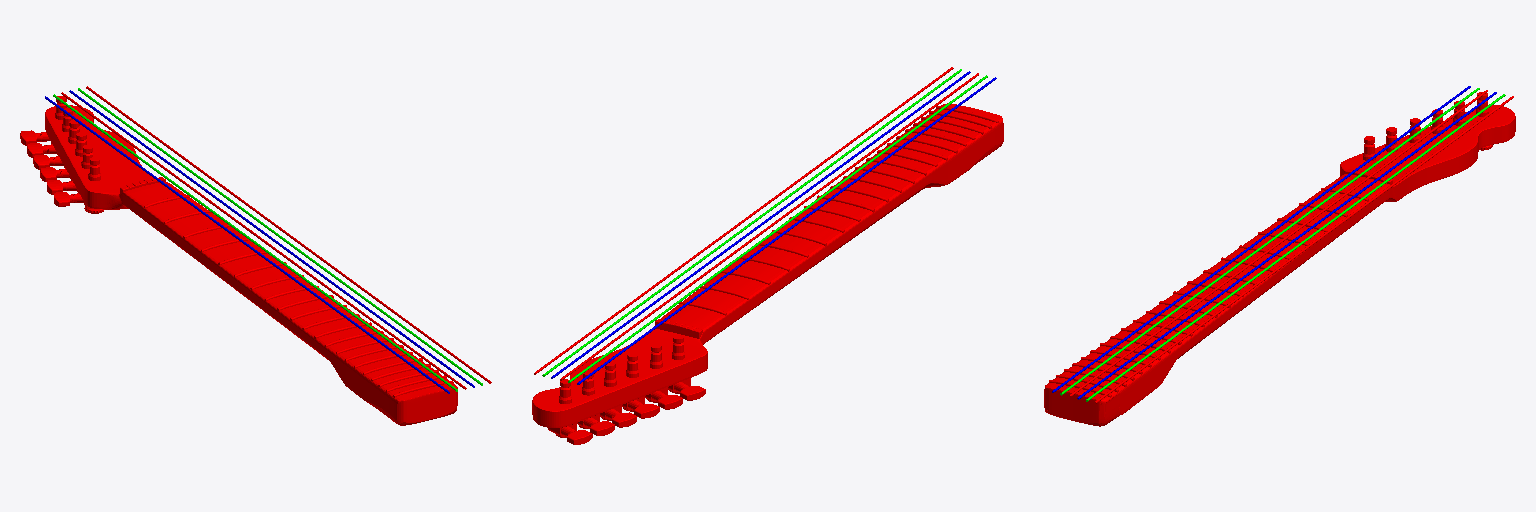
robot.urdf — guitar:
<?xml version="1.0"?>
<robot name="guitar">

  <!-- Base link (body mesh, no collision) -->
  <link name="base">
    <visual>
      <geometry><mesh filename="meshes/body.stl"/></geometry>
      <material name="green"><color rgba="0 1 0 1"/></material>
    </visual>
  </link>

  <!-- Neck (no collision) -->
  <link name="neck">
    <visual>
      <origin xyz="0.0308 -0.14885 0.005106" rpy="0 0 0"/>
      <geometry><mesh filename="meshes/neck.stl"/></geometry>
      <material name="red"><color rgba="1 0 0 1"/></material>
    </visual>
  </link>
  <joint name="neck_joint" type="fixed">
    <parent link="base"/>
    <child link="neck"/>
    <origin xyz="0 0 0"/>
  </joint>

  <!-- String 1 -->
  <link name="string1">
    <collision>
      <origin xyz="0.37455 -0.465 0.04" rpy="1.5708 1.5708 0"/>
      <geometry><cylinder radius="0.001" length="0.656"/></geometry>
    </collision>
    <visual>
      <origin xyz="0.37455 -0.465 0.04" rpy="1.5708 1.5708 0"/>
      <geometry><cylinder radius="0.001" length="0.656"/></geometry>
      <material name="s1"><color rgba="1 0 0 1"/></material>
    </visual>
  </link>
  <joint name="string1_joint" type="fixed">
    <parent link="base"/>
    <child link="string1"/>
    <origin xyz="0 0 0"/>
  </joint>

  <!-- String 2 -->
  <link name="string2">
    <collision>
      <origin xyz="0.36678 -0.465 0.04" rpy="1.5708 1.5708 0"/>
      <geometry><cylinder radius="0.001" length="0.656"/></geometry>
    </collision>
    <visual>
      <origin xyz="0.36678 -0.465 0.04" rpy="1.5708 1.5708 0"/>
      <geometry><cylinder radius="0.001" length="0.656"/></geometry>
      <material name="s2"><color rgba="0 1 0 1"/></material>
    </visual>
  </link>
  <joint name="string2_joint" type="fixed">
    <parent link="base"/>
    <child link="string2"/>
    <origin xyz="0 0 0"/>
  </joint>

  <!-- String 3 -->
  <link name="string3">
    <collision>
      <origin xyz="0.35901 -0.465 0.04" rpy="1.5708 1.5708 0"/>
      <geometry><cylinder radius="0.001" length="0.656"/></geometry>
    </collision>
    <visual>
      <origin xyz="0.35901 -0.465 0.04" rpy="1.5708 1.5708 0"/>
      <geometry><cylinder radius="0.001" length="0.656"/></geometry>
      <material name="s3"><color rgba="0 0 1 1"/></material>
    </visual>
  </link>
  <joint name="string3_joint" type="fixed">
    <parent link="base"/>
    <child link="string3"/>
    <origin xyz="0 0 0"/>
  </joint>

  <!-- String 4 -->
  <link name="string4">
    <collision>
      <origin xyz="0.35124 -0.465 0.04" rpy="1.5708 1.5708 0"/>
      <geometry><cylinder radius="0.001" length="0.656"/></geometry>
    </collision>
    <visual>
      <origin xyz="0.35124 -0.465 0.04" rpy="1.5708 1.5708 0"/>
      <geometry><cylinder radius="0.001" length="0.656"/></geometry>
      <material name="s4"><color rgba="1 0 0 1"/></material>
    </visual>
  </link>
  <joint name="string4_joint" type="fixed">
    <parent link="base"/>
    <child link="string4"/>
    <origin xyz="0 0 0"/>
  </joint>

  <!-- String 5 -->
  <link name="string5">
    <collision>
      <origin xyz="0.34347 -0.465 0.04" rpy="1.5708 1.5708 0"/>
      <geometry><cylinder radius="0.001" length="0.656"/></geometry>
    </collision>
    <visual>
      <origin xyz="0.34347 -0.465 0.04" rpy="1.5708 1.5708 0"/>
      <geometry><cylinder radius="0.001" length="0.656"/></geometry>
      <material name="s5"><color rgba="0 1 0 1"/></material>
    </visual>
  </link>
  <joint name="string5_joint" type="fixed">
    <parent link="base"/>
    <child link="string5"/>
    <origin xyz="0 0 0"/>
  </joint>

  <!-- String 6 -->
  <link name="string6">
    <collision>
      <origin xyz="0.3357 -0.465 0.04" rpy="1.5708 1.5708 0"/>
      <geometry><cylinder radius="0.001" length="0.656"/></geometry>
    </collision>
    <visual>
      <origin xyz="0.3357 -0.465 0.04" rpy="1.5708 1.5708 0"/>
      <geometry><cylinder radius="0.001" length="0.656"/></geometry>
      <material name="s6"><color rgba="0 0 1 1"/></material>
    </visual>
  </link>
  <joint name="string6_joint" type="fixed">
    <parent link="base"/>
    <child link="string6"/>
    <origin xyz="0 0 0"/>
  </joint>

</robot>

--- Render facts (derived) ---
3 views of the same robot in one strip: view 1: azimuth 30°, elevation 25°; view 2: azimuth 150°, elevation 25°; view 3: azimuth 330°, elevation 25° (orthographic).
Robot: guitar — 8 links, 7 joints (7 fixed); root link base; default pose: all joints at 0.
Visible links, largest first — view 1: neck, string1, string2, string3, string5, string6, string4; view 2: neck, string2, string5, string1, string4, string6, string3; view 3: neck, string2, string1, string5, string3, string4, string6.
Boxes of the visible links, box(x1,y1,x2,y2) form: neck: box(20, 96, 457, 425); string1: box(86, 86, 491, 383); string2: box(78, 88, 482, 385); string3: box(69, 90, 474, 387); string5: box(53, 94, 457, 391); string6: box(45, 96, 449, 393); string4: box(61, 92, 466, 389); neck: box(532, 103, 1003, 444); string2: box(542, 69, 961, 376); string5: box(568, 75, 987, 382); string1: box(534, 67, 953, 374); string4: box(560, 73, 978, 380); string6: box(577, 77, 996, 384); string3: box(551, 71, 970, 378); neck: box(1044, 92, 1515, 426); string2: box(1086, 94, 1505, 401); string1: box(1094, 96, 1513, 403); string5: box(1060, 88, 1479, 395); string3: box(1077, 92, 1496, 399); string4: box(1069, 90, 1487, 397); string6: box(1052, 86, 1470, 392).
Bounding box of the posed robot: 0.0917 × 0.6788 × 0.0489 m (x, y, z).
1 mesh visuals loaded from 2 distinct referenced files (1 binary STL); not drawn: 1 (reference not matched to a file when rendering).
